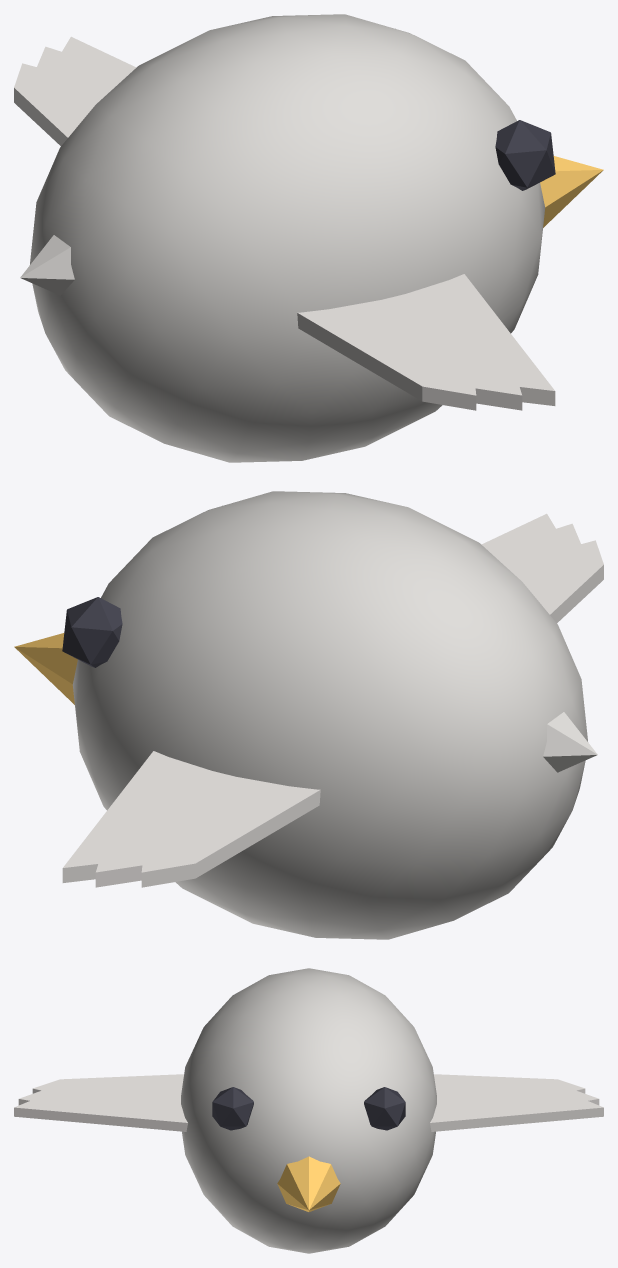
File: bird.glb
3 views of the same model, one above another, from view 1: azimuth 30°, elevation 25°; view 2: azimuth 150°, elevation 25°; view 3: azimuth 270°, elevation 25° (orthographic). The views are drawn at different scales.
Parts seen in each view (by area): view 1: bird, wing_R, wing_L; view 2: bird, wing_L, wing_R; view 3: bird, wing_L, wing_R.
Part boxes in pixels (box(x1,y1,x2,y2)): bird: box(20, 14, 603, 462); wing_R: box(297, 274, 555, 410); wing_L: box(14, 36, 136, 145); bird: box(14, 491, 597, 939); wing_L: box(62, 751, 320, 887); wing_R: box(481, 513, 603, 622); bird: box(181, 968, 436, 1253); wing_L: box(430, 1074, 603, 1131); wing_R: box(14, 1074, 187, 1131).
Size of the model in its own units: 0.639 by 0.4275 by 0.918.
